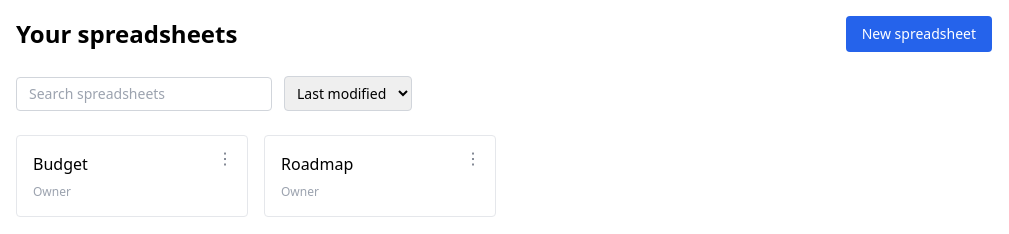
Test: pages/index.vue › filters the grid by the search query
Type "road" into the field with test id "search-input" at (144, 94), box [16, 76, 272, 110]
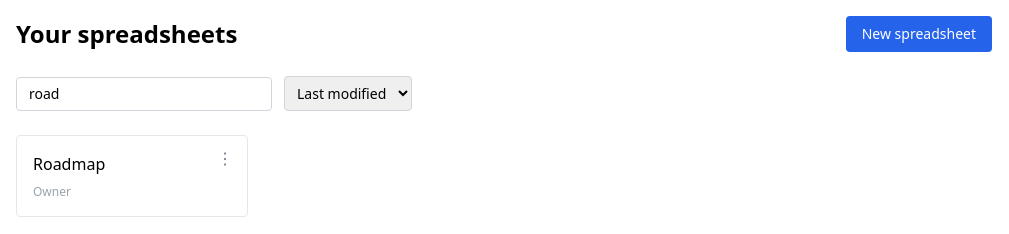
Expected: the text "Roadmap" is shown, [33, 153, 105, 175]
Result: the text "Budget" is gone
